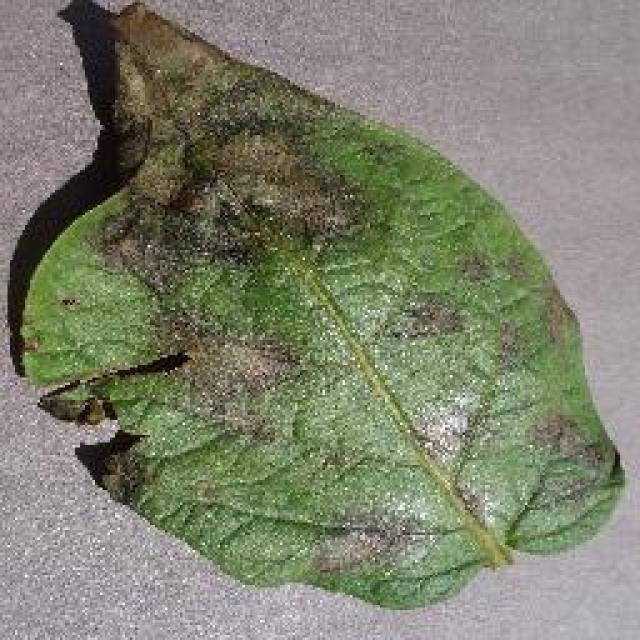late_blight: (4, 0, 627, 612)
